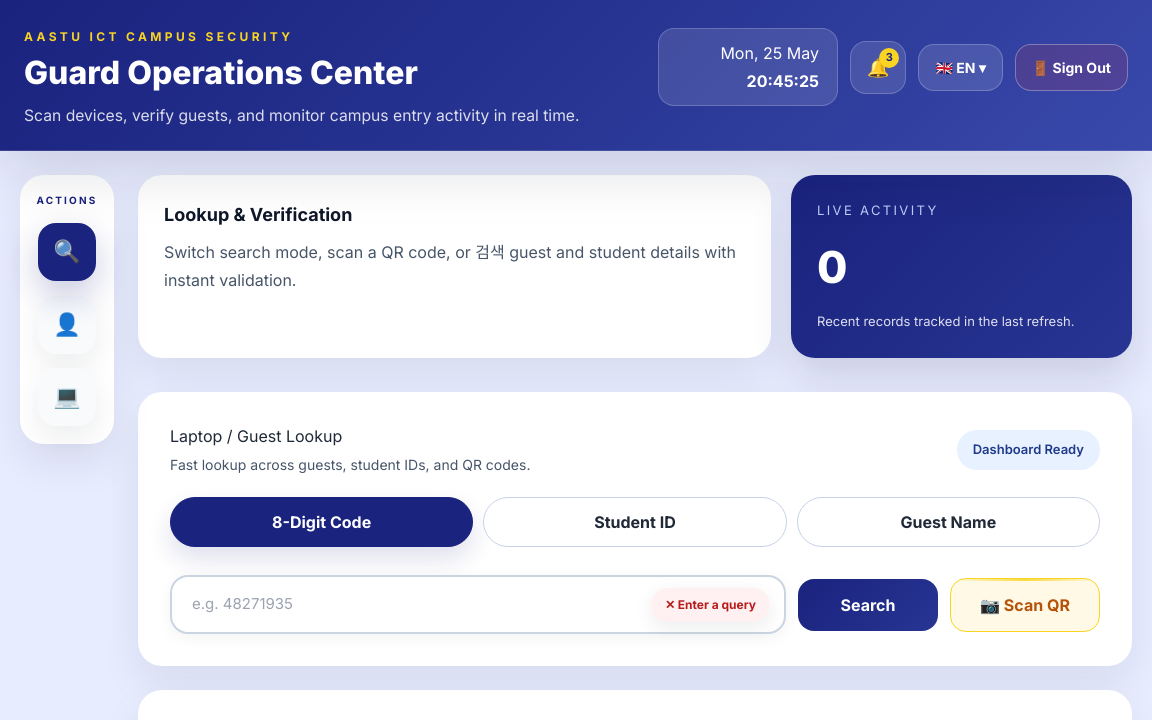
Test: GuardDashboard › shows blocked alert and no action buttons when status is BLOCKED
The image size is (1152, 720).
Type "12345678" into the field with placeholder "e.g. 48271935" at point(478, 605), box [170,575,786,634]
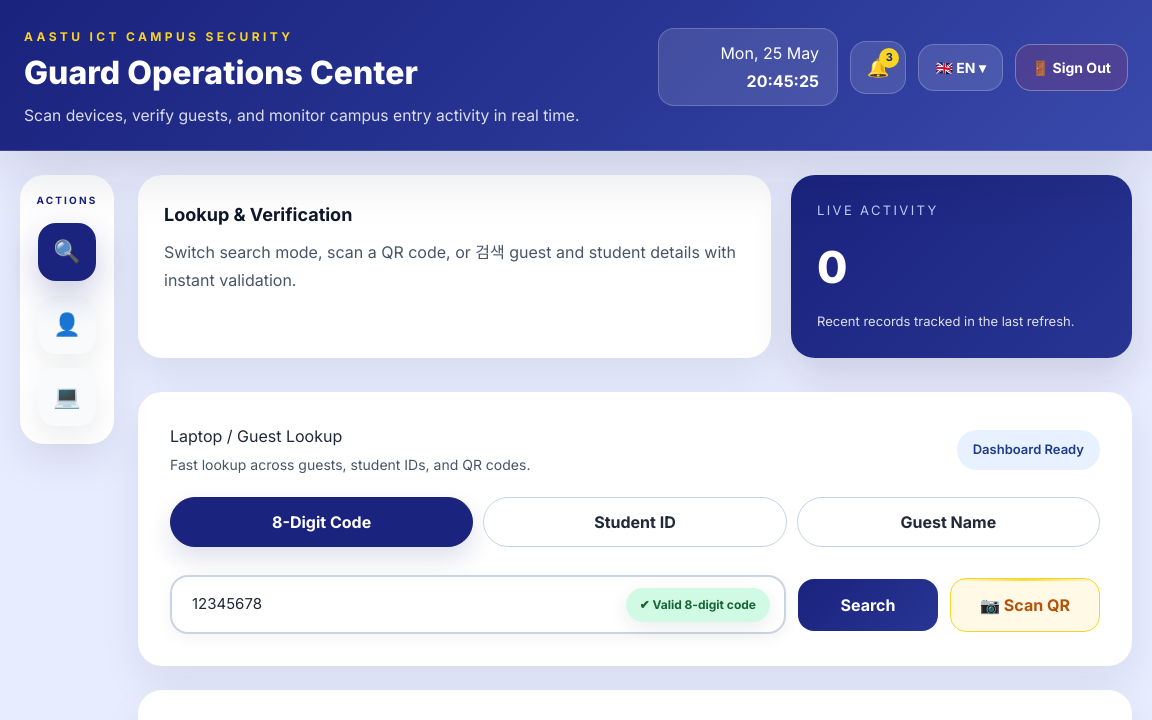
Click the button "Search" at point(868, 605), box [798,579,938,631]
(page scrolled)
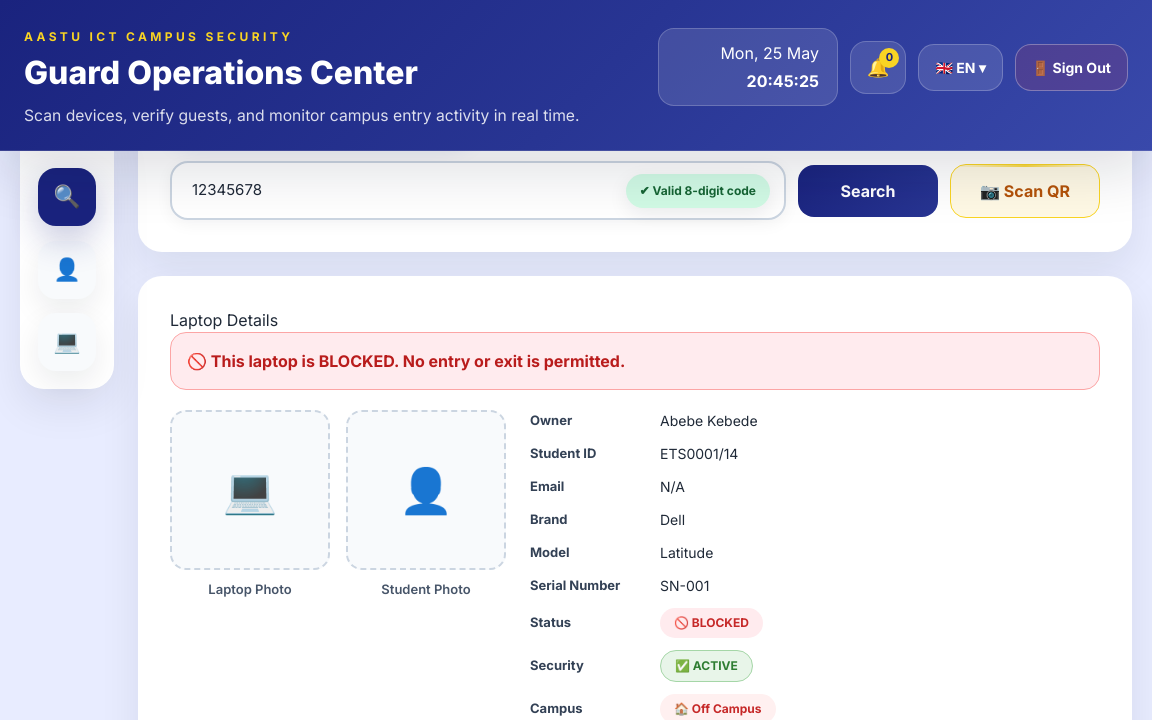
Now the text "🚫 This laptop is BLOCKED. No entry or exit is permitted." is shown, box [170,332,1100,390]
